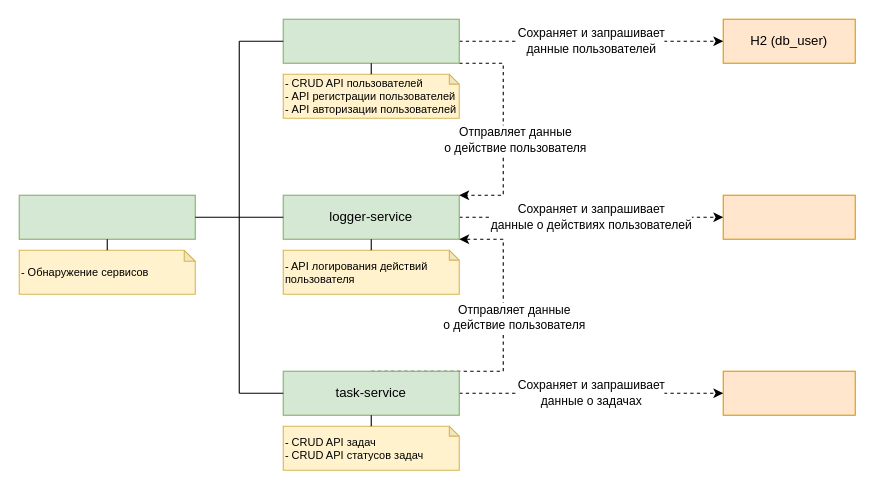
Image size: 875x490. Some labels were removed from this diagram. The centre of each missing label's shape, as x and y in pixels:
"discovery-server" goes at (x=106, y=216).
"H2 (db_logger)" goes at (x=788, y=216).
"H2 (db_task)" goes at (x=788, y=392).
"user-service" goes at (x=370, y=40).
